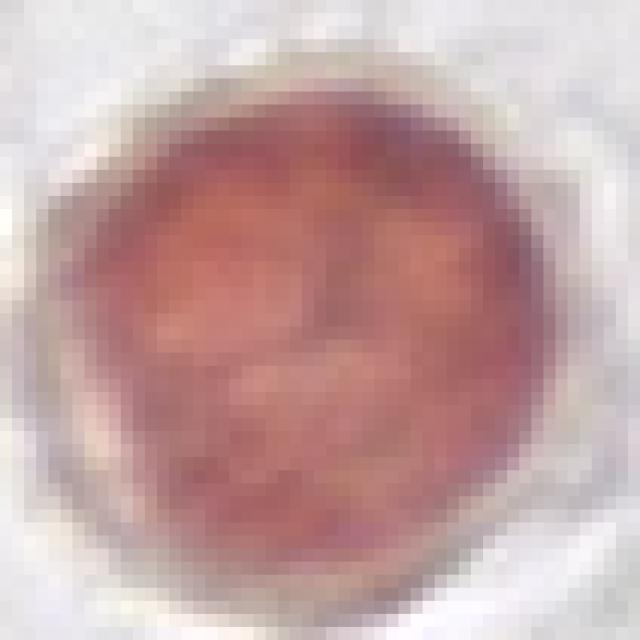nucleus: (48, 44, 596, 609)
